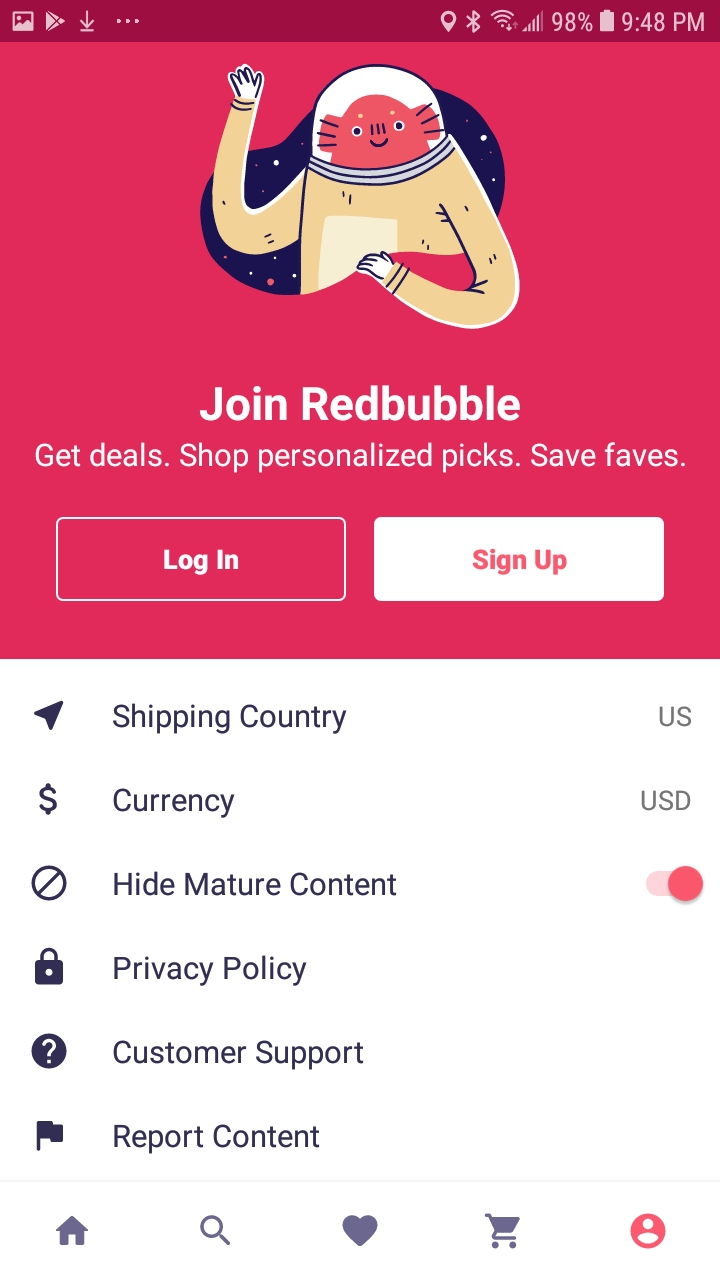Icon: (484, 1212, 520, 1249), (630, 1213, 666, 1249), (32, 1033, 68, 1069), (343, 1215, 379, 1247), (35, 947, 64, 985), (56, 1215, 89, 1246), (201, 1214, 232, 1245), (34, 700, 65, 731), (40, 783, 58, 815)
Image: (200, 63, 521, 330), (32, 865, 68, 901), (37, 1121, 65, 1151)
Switch: (646, 865, 704, 903)
Text: (36, 442, 686, 474), (200, 385, 521, 422), (114, 1039, 364, 1070), (113, 703, 347, 735), (114, 870, 397, 896), (114, 1124, 320, 1154), (115, 955, 308, 987), (114, 787, 236, 818), (641, 790, 691, 811), (660, 707, 692, 728)
TextButton: (56, 517, 347, 602), (374, 517, 665, 602)
UpperTaskBar: (1, 1, 720, 43)
